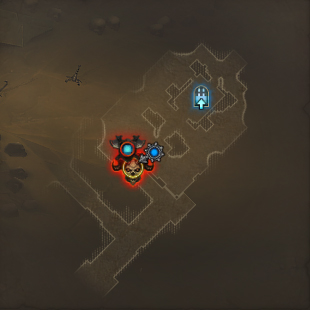Guardian: (111, 155, 154, 185)
